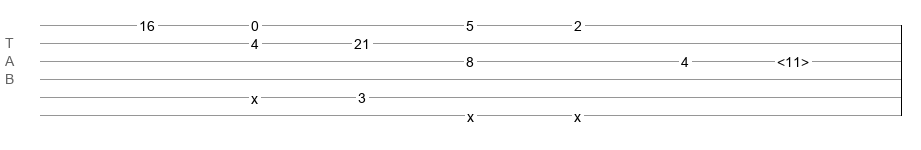0: (251, 18, 259, 28)
16: (139, 18, 155, 28)
2: (574, 18, 582, 28)
21: (354, 36, 370, 46)
3: (358, 90, 366, 100)
4: (251, 36, 259, 46), (681, 54, 689, 64)
5: (466, 18, 474, 28)
8: (466, 54, 474, 64)
harmonic: (777, 54, 809, 64)
x: (251, 91, 258, 99), (467, 109, 474, 117), (574, 109, 581, 117)
